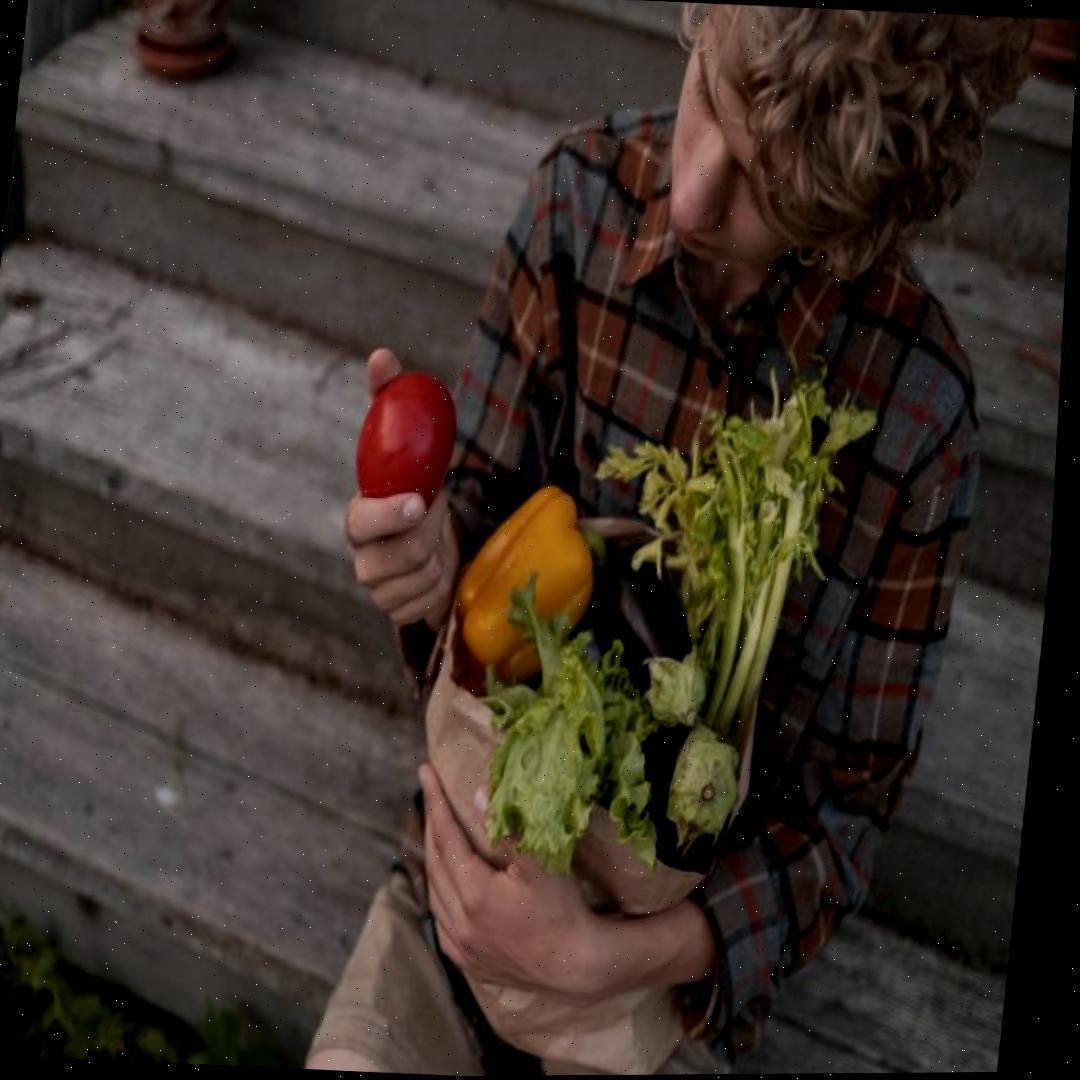matang: (347, 367, 462, 537)
